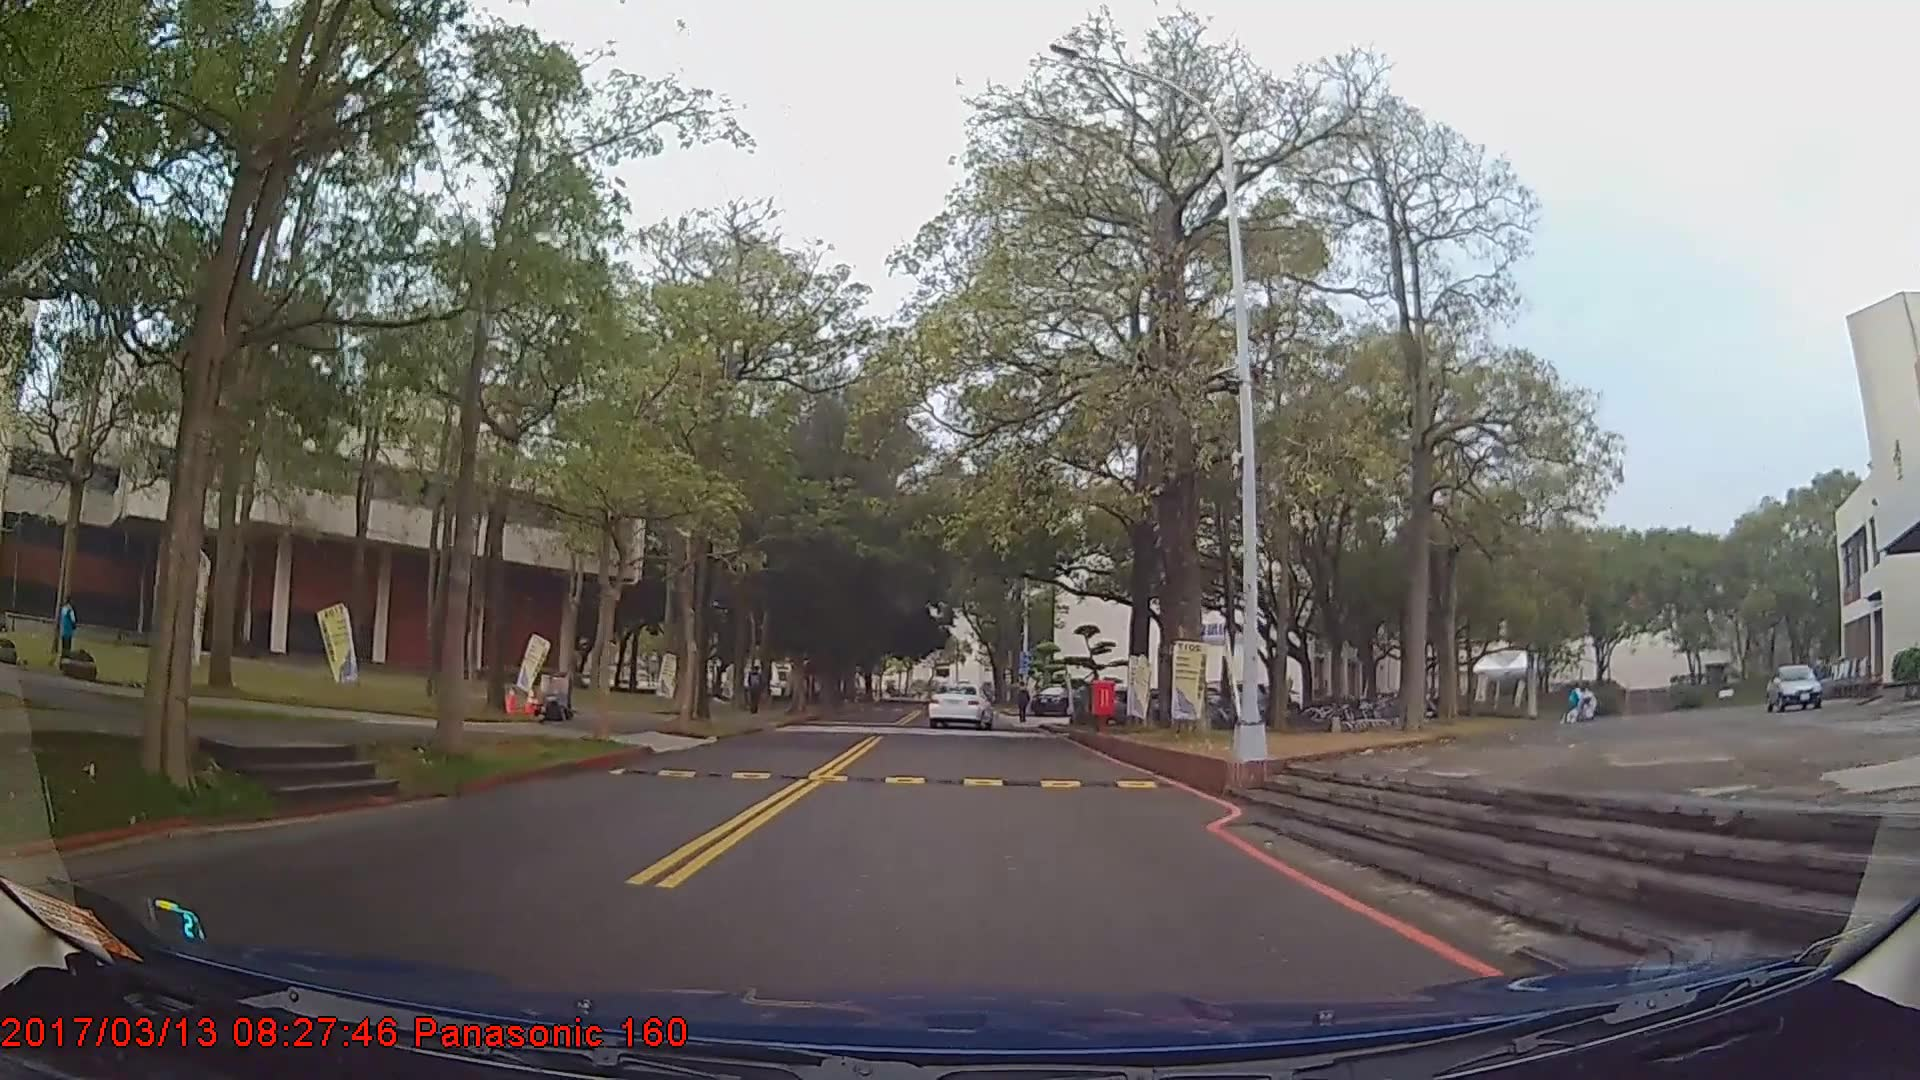pedestrian: (55, 599, 81, 676), (745, 666, 767, 717)
vehicle: (1762, 659, 1835, 712), (927, 681, 994, 730)
